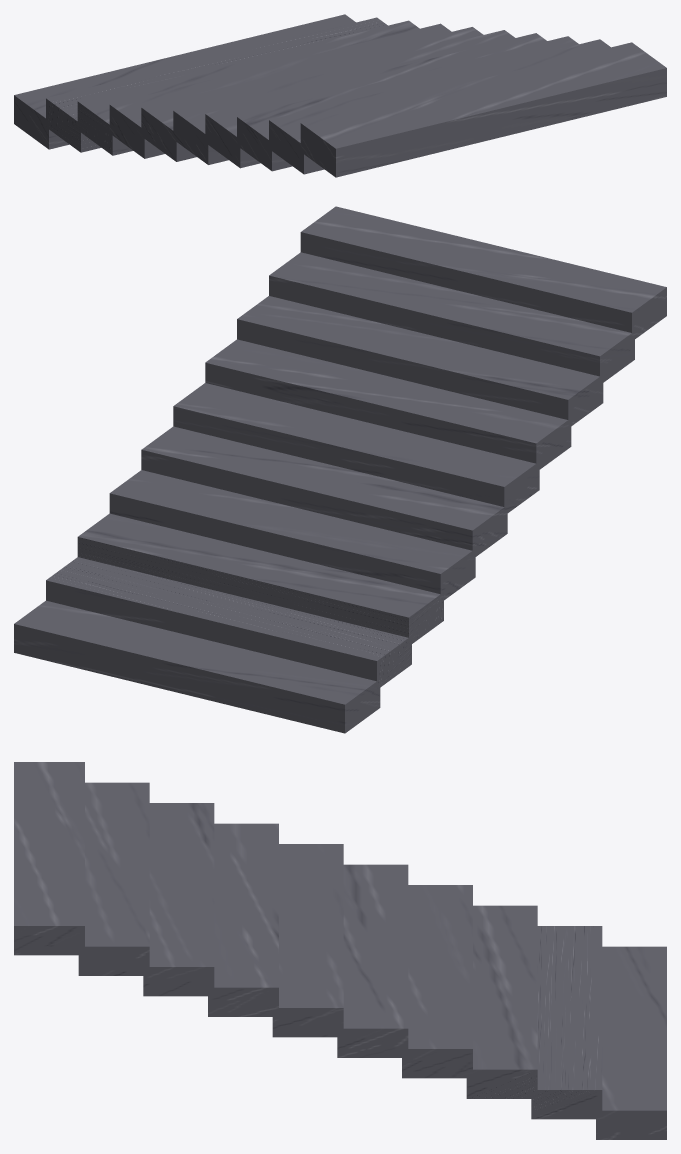
Rendered from shogun_stone_stairway_lod1.glb.
3 views of the same model, one above another, from view 1: azimuth 30°, elevation 25°; view 2: azimuth 150°, elevation 25°; view 3: azimuth 270°, elevation 25° (orthographic).
Visible parts, largest first — view 1: shogun_stone_stairway_009, shogun_stone_stairway_004, shogun_stone_stairway_002, shogun_stone_stairway_005, shogun_stone_stairway_003, shogun_stone_stairway_000, shogun_stone_stairway_001, shogun_stone_stairway_007, shogun_stone_stairway_008, shogun_stone_stairway_006; view 2: shogun_stone_stairway_000, shogun_stone_stairway_009, shogun_stone_stairway_004, shogun_stone_stairway_002, shogun_stone_stairway_003, shogun_stone_stairway_006, shogun_stone_stairway_005, shogun_stone_stairway_008, shogun_stone_stairway_001, shogun_stone_stairway_007; view 3: shogun_stone_stairway_009, shogun_stone_stairway_001, shogun_stone_stairway_007, shogun_stone_stairway_004, shogun_stone_stairway_008, shogun_stone_stairway_005, shogun_stone_stairway_002, shogun_stone_stairway_000, shogun_stone_stairway_006, shogun_stone_stairway_003.
Boxes of the visible parts, x1,y1,x2,y2 form: shogun_stone_stairway_009: (300, 42, 666, 177); shogun_stone_stairway_004: (141, 27, 483, 161); shogun_stone_stairway_002: (77, 20, 419, 155); shogun_stone_stairway_005: (173, 30, 514, 164); shogun_stone_stairway_003: (109, 23, 451, 158); shogun_stone_stairway_000: (14, 14, 355, 149); shogun_stone_stairway_001: (46, 17, 387, 152); shogun_stone_stairway_007: (237, 36, 578, 171); shogun_stone_stairway_008: (269, 39, 610, 174); shogun_stone_stairway_006: (205, 33, 546, 168); shogun_stone_stairway_000: (14, 600, 380, 733); shogun_stone_stairway_009: (300, 206, 666, 338); shogun_stone_stairway_004: (141, 426, 507, 558); shogun_stone_stairway_002: (77, 513, 443, 644); shogun_stone_stairway_003: (109, 470, 475, 602); shogun_stone_stairway_006: (205, 339, 571, 469); shogun_stone_stairway_005: (173, 383, 539, 512); shogun_stone_stairway_008: (269, 252, 634, 384); shogun_stone_stairway_001: (46, 557, 411, 689); shogun_stone_stairway_007: (237, 296, 603, 426); shogun_stone_stairway_009: (14, 762, 84, 955); shogun_stone_stairway_001: (531, 926, 602, 1119); shogun_stone_stairway_007: (143, 803, 214, 996); shogun_stone_stairway_004: (337, 864, 408, 1057); shogun_stone_stairway_008: (78, 782, 149, 975); shogun_stone_stairway_005: (272, 844, 343, 1037); shogun_stone_stairway_002: (466, 905, 537, 1098); shogun_stone_stairway_000: (596, 946, 666, 1139); shogun_stone_stairway_006: (208, 823, 278, 1016); shogun_stone_stairway_003: (402, 885, 472, 1078).
Size of the model in its own units: 6 by 3.65 by 10.1.
1 material, 1 textured.
